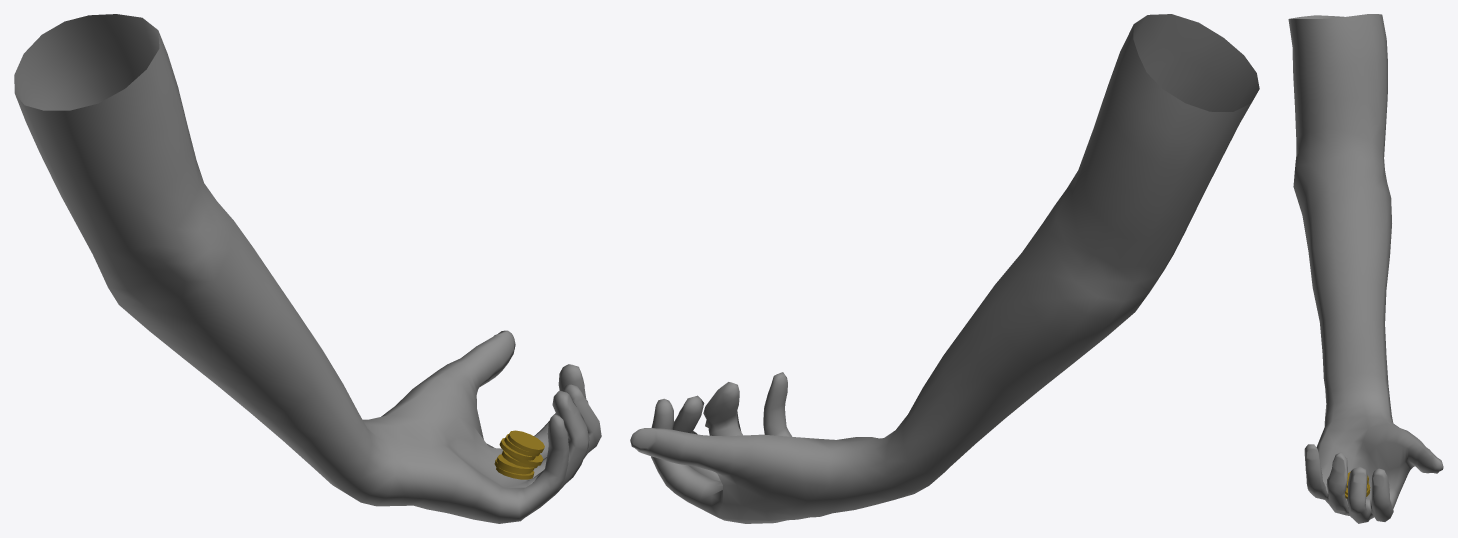
The model's file is arm_torch_1.fbx.
The picture shows the model from 3 angles, left to right: view 1: azimuth 30°, elevation 25°; view 2: azimuth 150°, elevation 25°; view 3: azimuth 270°, elevation 25°; orthographic projection. The views are drawn at different scales.
Parts seen in each view (by area): view 1: Arm_Torch1; view 2: Arm_Torch1; view 3: Arm_Torch1.
Part boxes in pixels (box(x1,y1,x2,y2)): Arm_Torch1: box(14, 14, 601, 523); Arm_Torch1: box(630, 14, 1259, 523); Arm_Torch1: box(1288, 14, 1443, 523).
Bounding box in the file's own units: 92.01 × 88.71 × 32.64.
